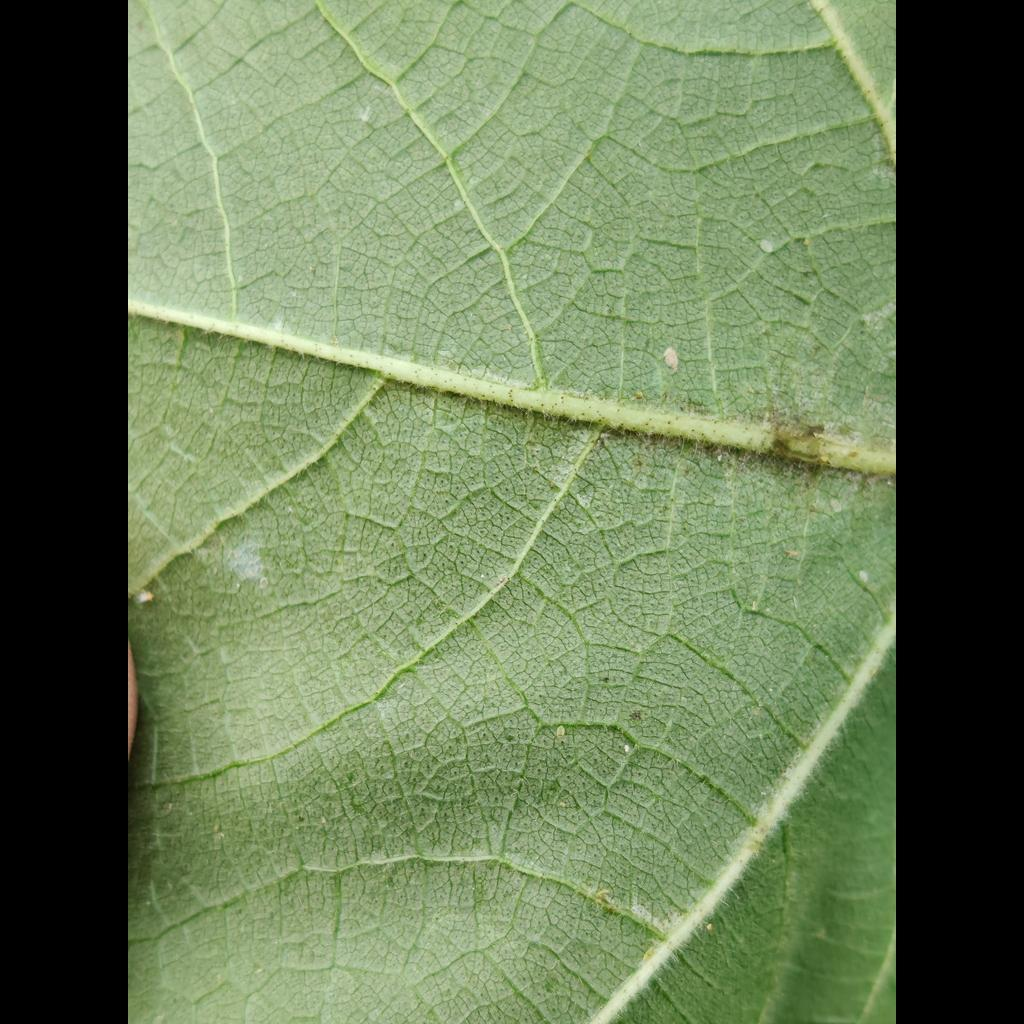nymph: (134, 591, 153, 603), (760, 239, 774, 253), (452, 199, 467, 212), (361, 106, 373, 122), (858, 569, 868, 583), (258, 578, 269, 588), (557, 725, 565, 737), (716, 453, 722, 462), (623, 744, 629, 752)
